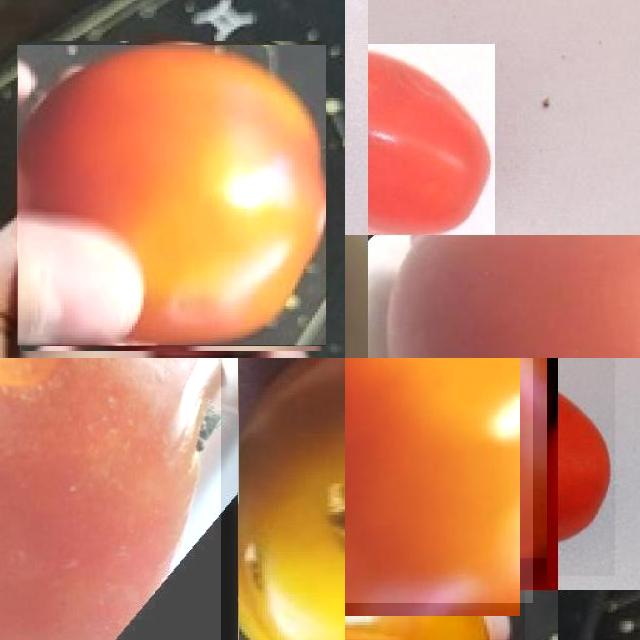0: (17, 46, 326, 345)
Fresh Tomato: (345, 358, 533, 603), (368, 235, 640, 358), (558, 358, 615, 576)
Rotten Tomato: (0, 358, 221, 640), (203, 358, 345, 640), (368, 44, 494, 235)
